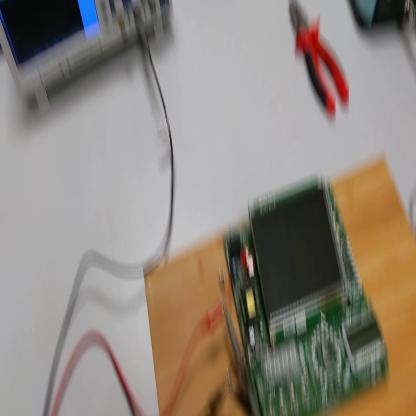low voltage board: (227, 173, 389, 415)
oscilloscope: (2, 1, 171, 113)
oscilloscope probe tip: (220, 284, 263, 416)
pliers: (288, 2, 352, 120)
welder station: (352, 1, 413, 31)
working area: (145, 149, 416, 416)
